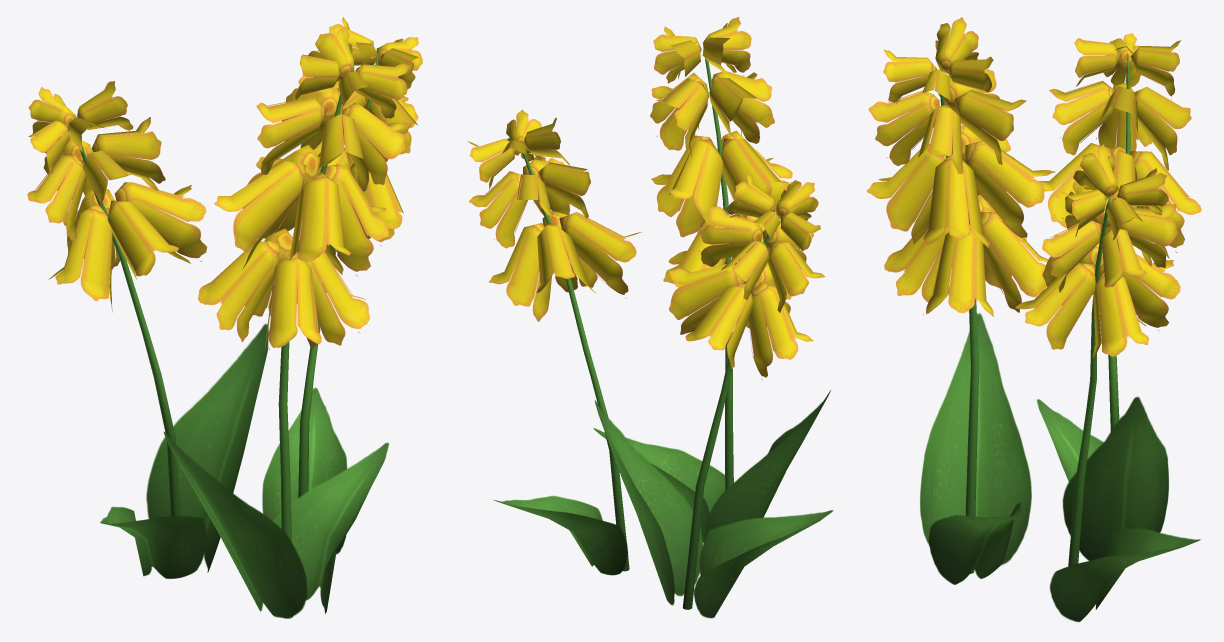
File: yellow_flowers_fixed.glb
3 renders of one model, left to right at view 1: azimuth 30°, elevation 25°; view 2: azimuth 150°, elevation 25°; view 3: azimuth 270°, elevation 25°, orthographic. The views are drawn at different scales.
Visible parts, largest first — view 1: Flower_4_Group; view 2: Flower_4_Group; view 3: Flower_4_Group.
Part boxes in pixels (x1,y1,x2,y2): Flower_4_Group: [27, 17, 422, 618]; Flower_4_Group: [467, 17, 833, 618]; Flower_4_Group: [866, 17, 1201, 622].
Size of the model in its own units: 1.78 by 2.49 by 1.37.
2 materials, 2 textured.
